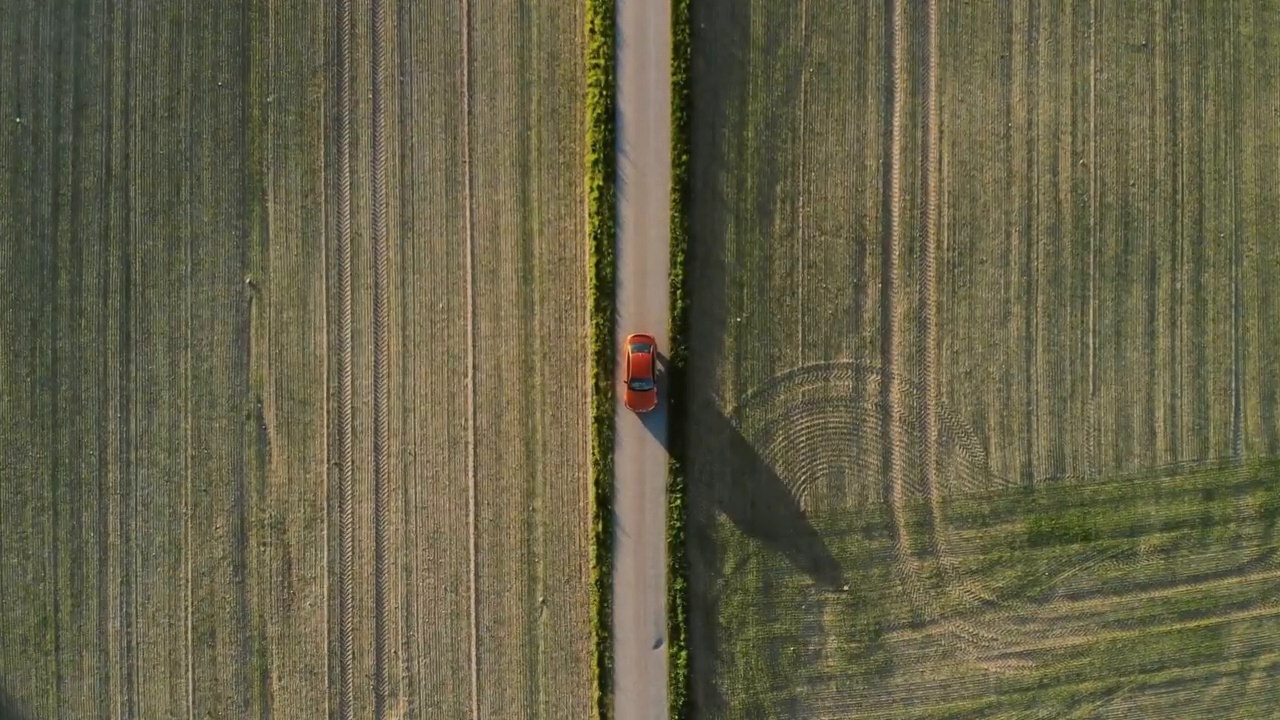araba: (622, 330, 663, 414)
